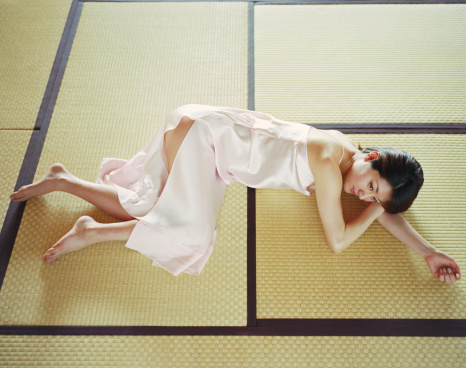deitado: (0, 72, 464, 301)
